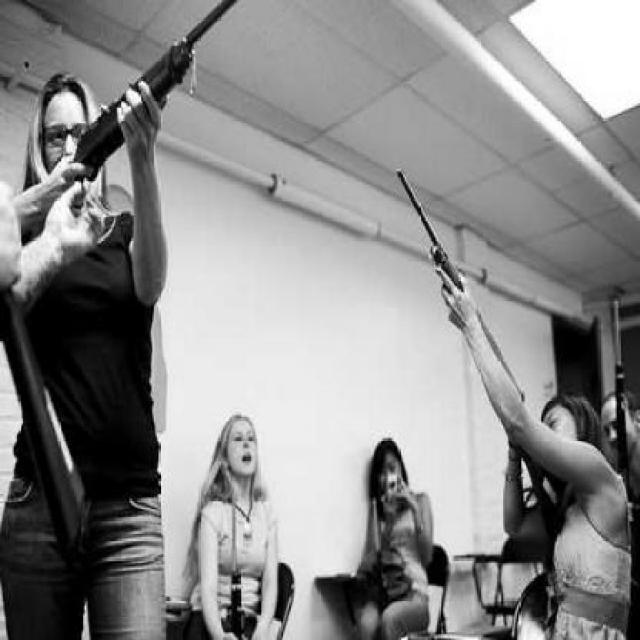weapon: (393, 166, 588, 531), (62, 0, 260, 211)
